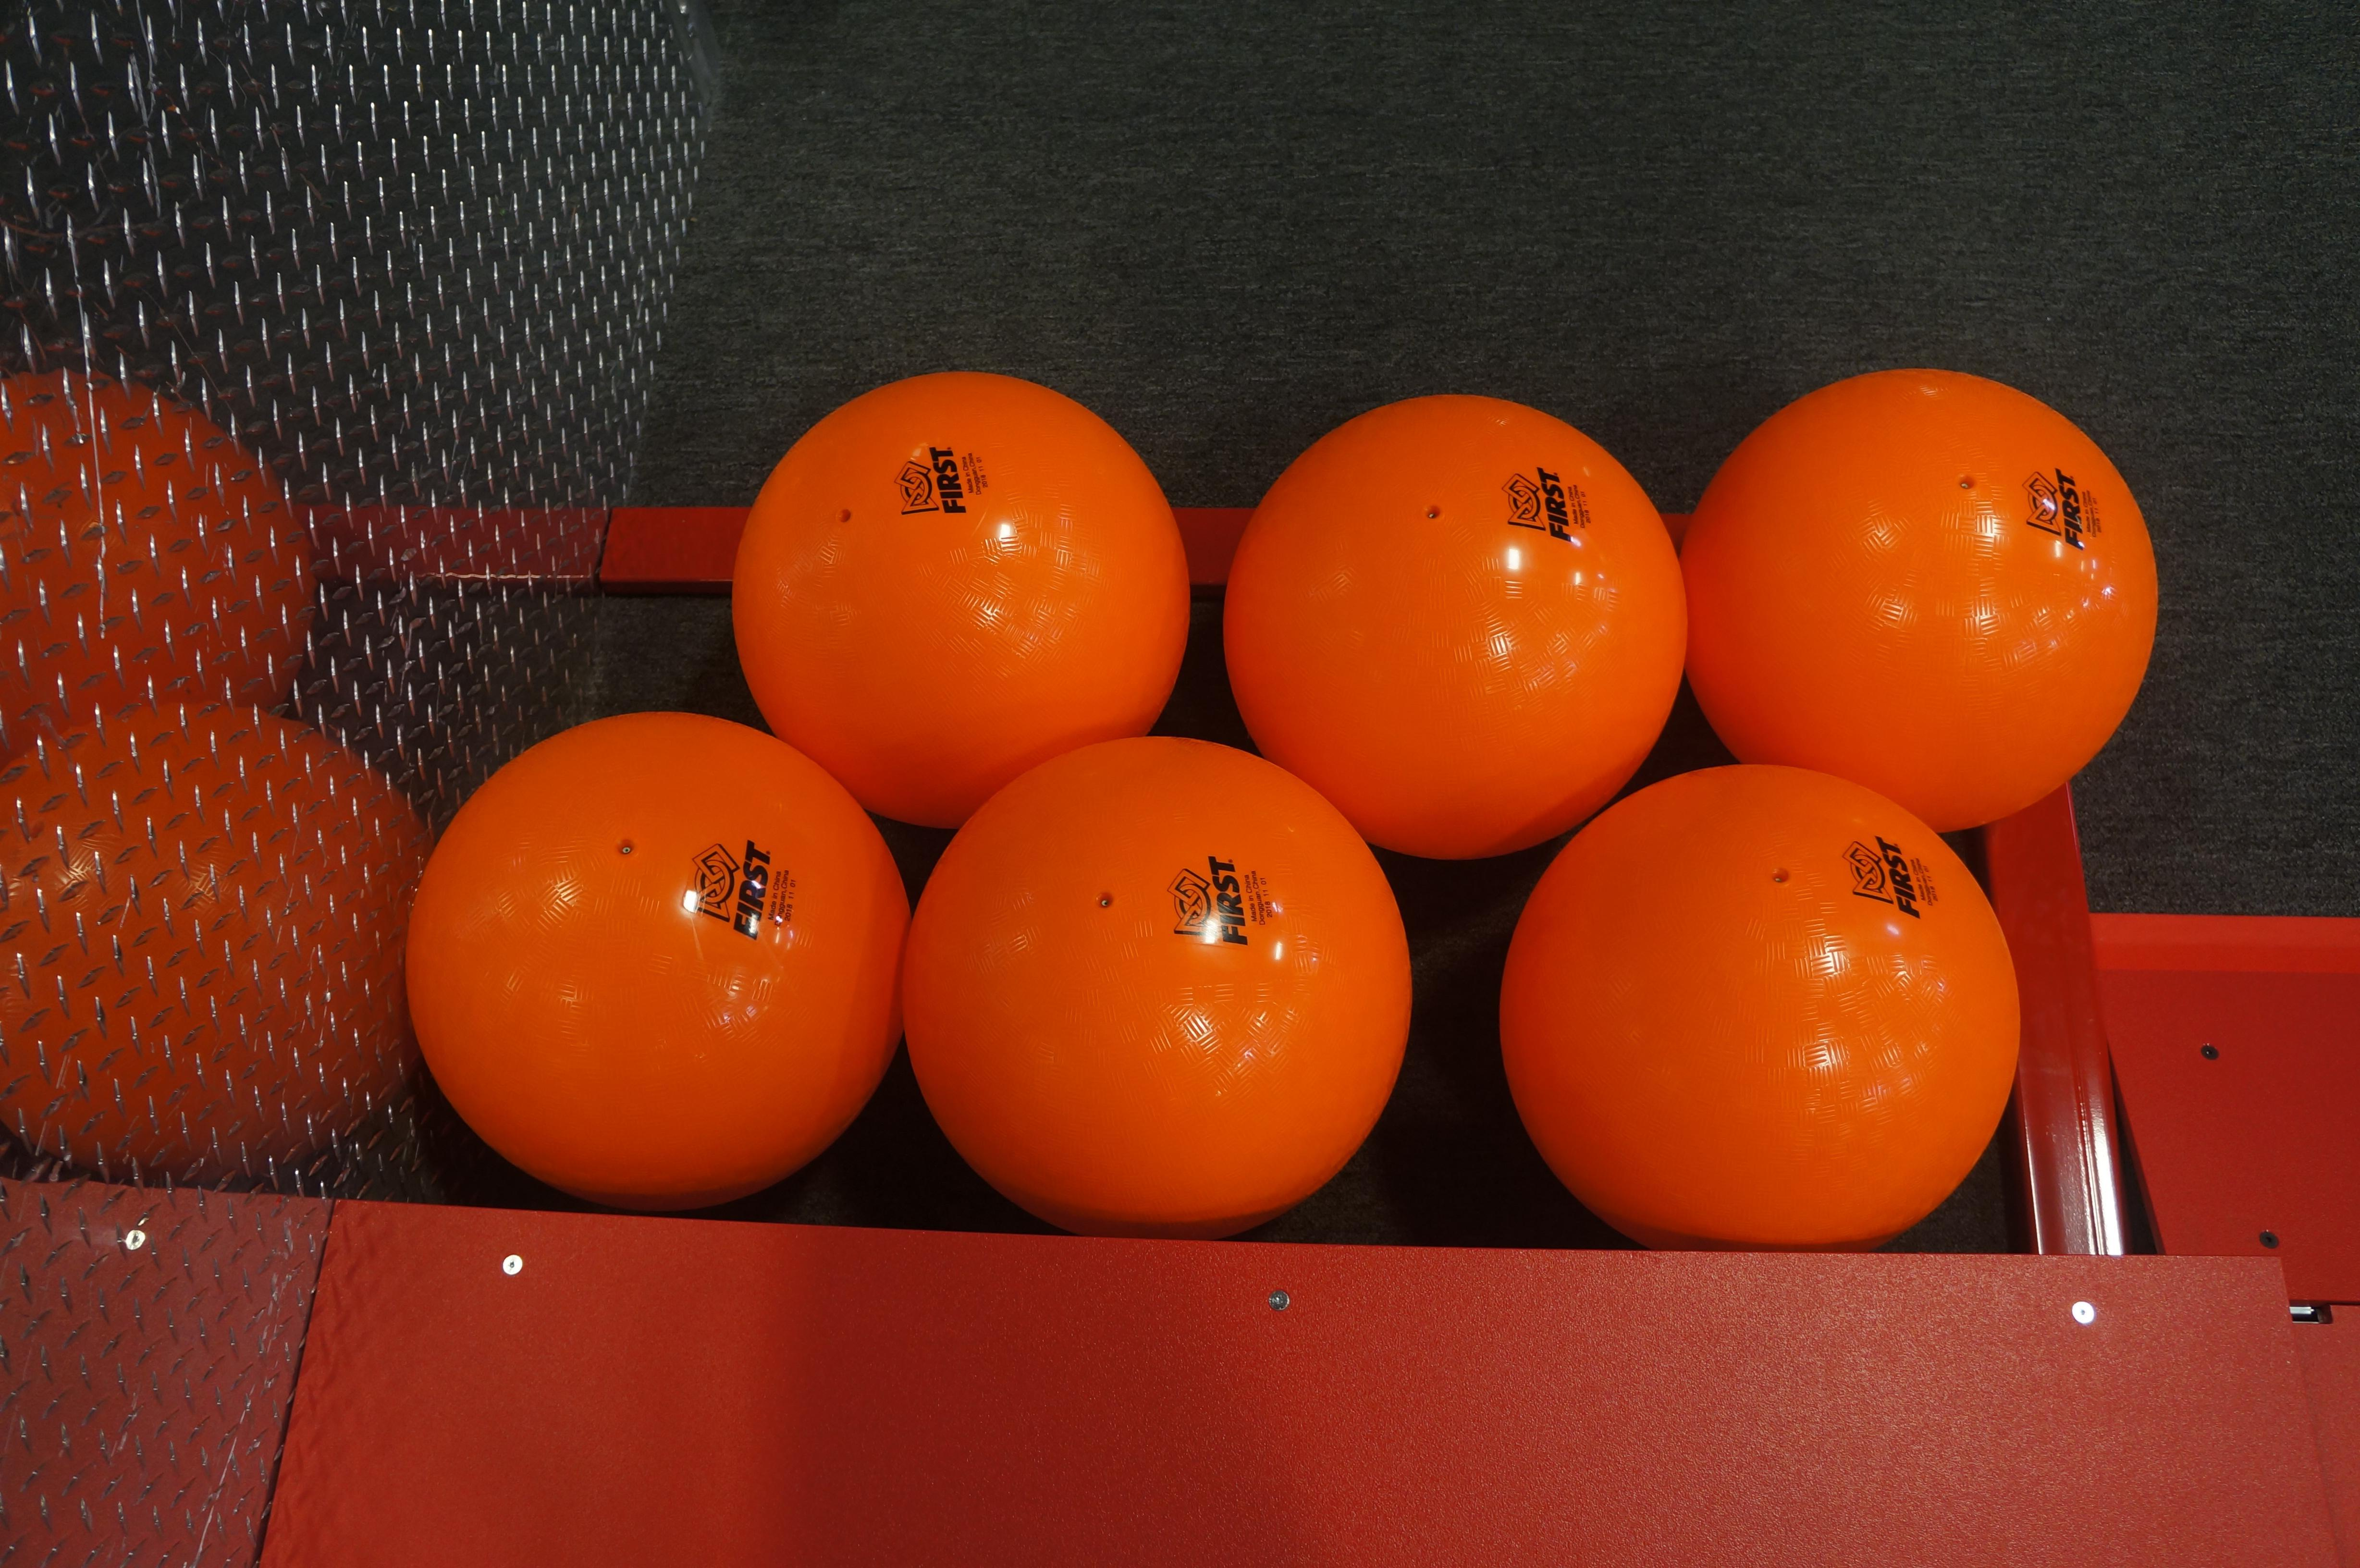Ball: (1499, 761, 2022, 1258), (903, 735, 1417, 1237), (402, 712, 913, 1211), (1676, 364, 2166, 831), (1223, 394, 1693, 857), (730, 373, 1197, 824)
